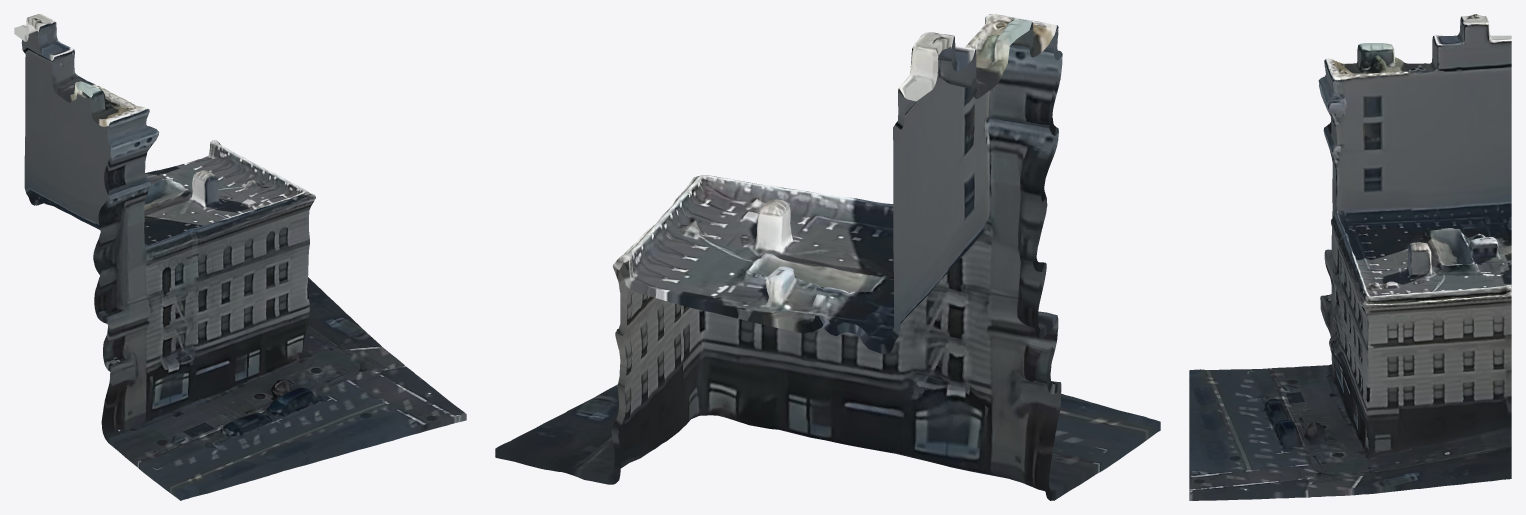
The model's file is z20-167755-405239-h0-yup-uvflip-v3-world.glb.
3 views of the same model, side by side, from view 1: azimuth 30°, elevation 25°; view 2: azimuth 150°, elevation 25°; view 3: azimuth 270°, elevation 25° (orthographic). The views are drawn at different scales.
Size of the model in its own units: 30.16 by 37.68 by 30.32.
1 material, 1 textured.
